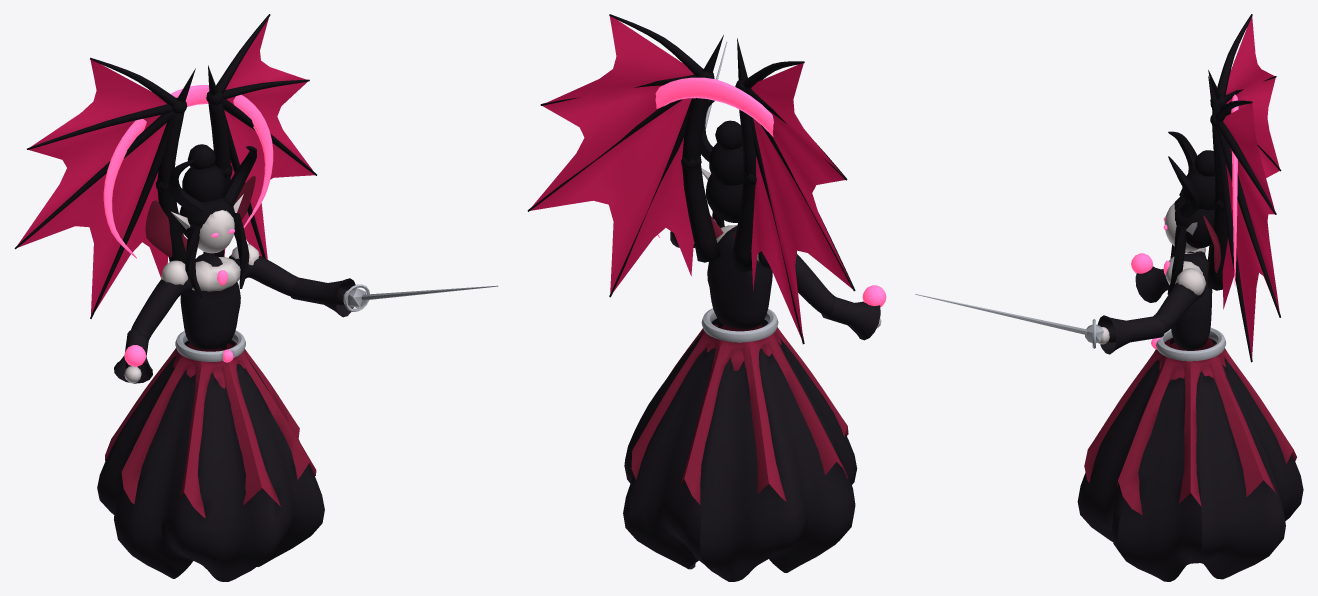
The model's file is goth_countess.glb.
3 views of the same model, side by side, from view 1: azimuth 30°, elevation 25°; view 2: azimuth 150°, elevation 25°; view 3: azimuth 270°, elevation 25° (orthographic). The views are drawn at different scales.
Parts seen in each view (by area): view 1: body, wing_L_a, wing_R_a, moon; view 2: body, wing_R_a, wing_L_a, moon; view 3: body, wing_R_a, wing_L_a, moon.
Part boxes in pixels (box(x1,y1,x2,y2)): body: box(97, 144, 498, 581); wing_L_a: box(14, 57, 195, 318); wing_R_a: box(203, 14, 316, 259); moon: box(103, 85, 273, 258); body: box(623, 41, 886, 581); wing_R_a: box(527, 14, 723, 297); wing_L_a: box(730, 38, 855, 344); moon: box(655, 77, 773, 237); body: box(915, 131, 1303, 581); wing_R_a: box(1207, 76, 1280, 362); wing_L_a: box(1208, 14, 1281, 262); moon: box(1231, 94, 1238, 286).
Size of the model in its own units: 1.58 by 2.53 by 1.75.
